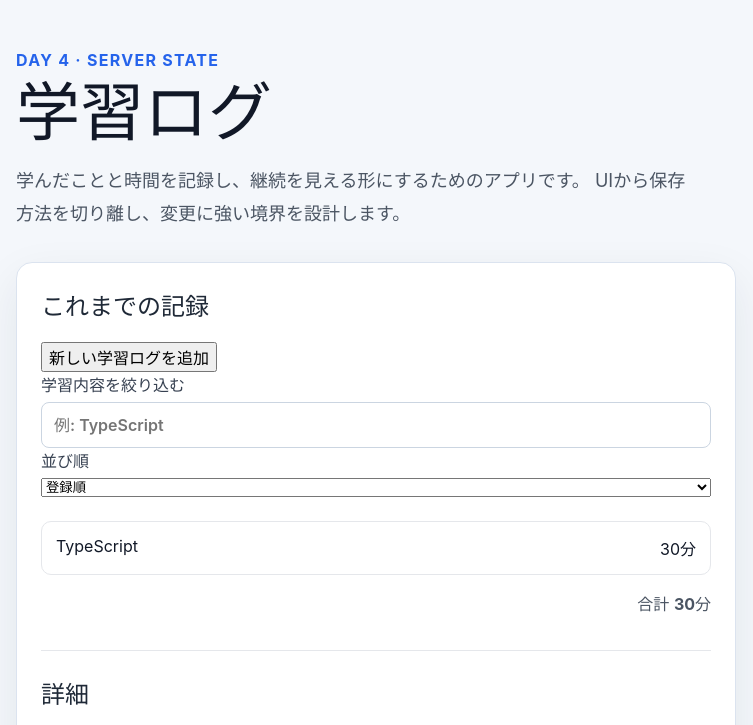
it: StudyLogPage › 不正なフォーム入力を保存せずエラーを表示する
Click the button "TypeScript 30分": [97, 546] box [41,521,711,575]
(page scrolled)
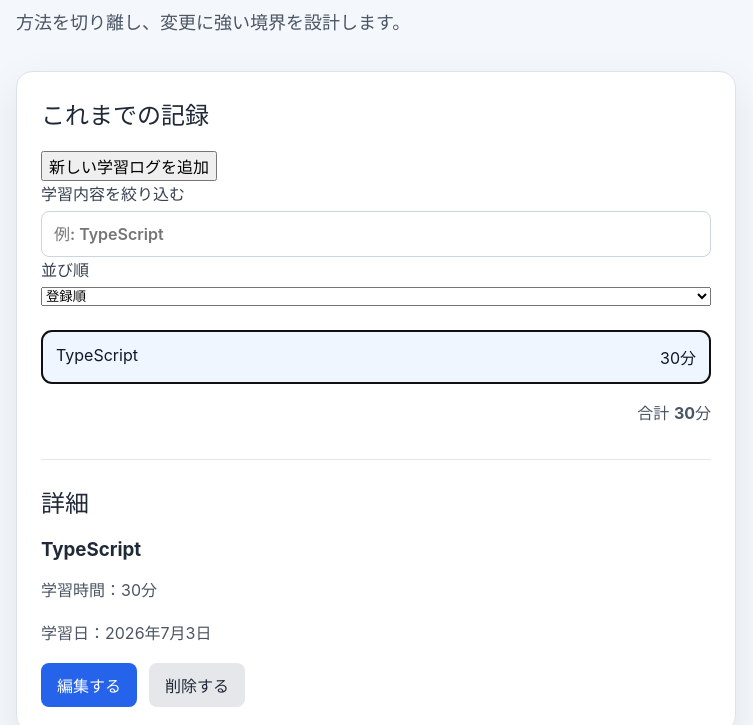
Click the button "編集する": [89, 685] box [41,663,137,707]
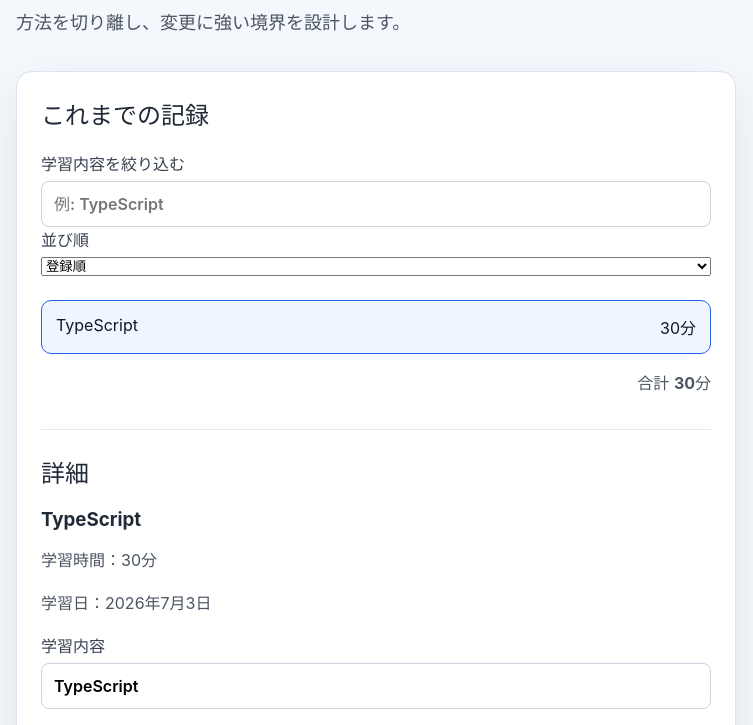
Clear the field labelled "学習内容": [376, 686] box [41,663,711,709]
(page scrolled)
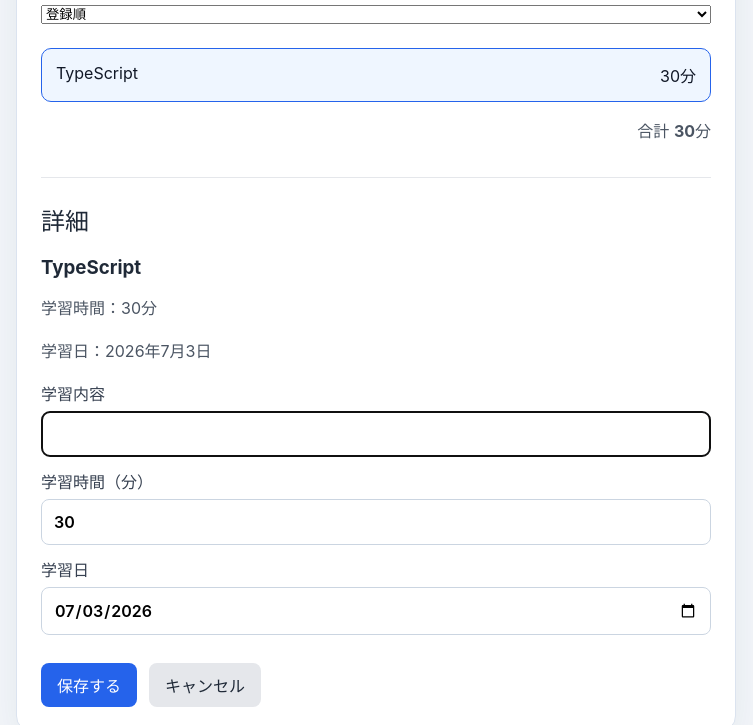
Clear the number field labelled "学習時間（分）": [376, 522] box [41,499,711,545]
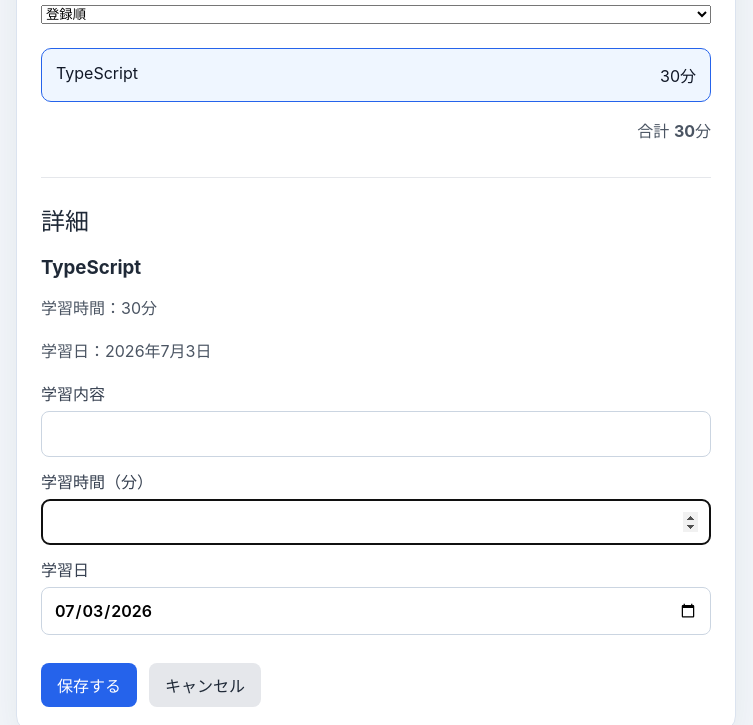
Click the button "保存する": [89, 685] box [41,663,137,707]
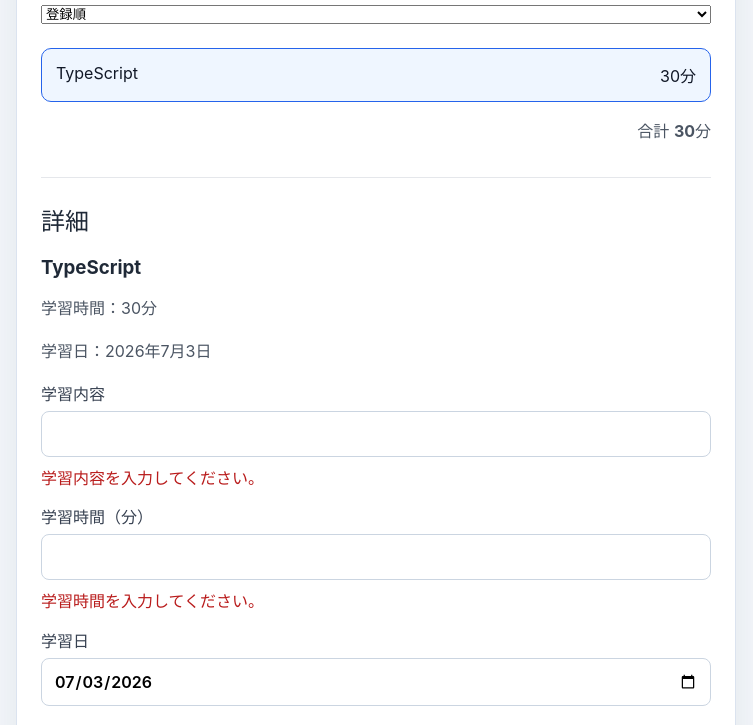
Now the text "学習内容を入力してください。" is shown, box [41,468,264,488]
Now the text "学習時間を入力してください。" is shown, box [41,591,264,611]
